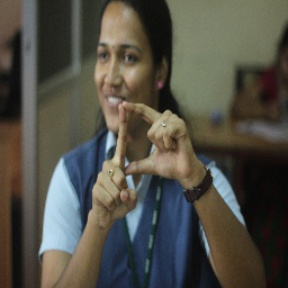D: (100, 94, 188, 194)
